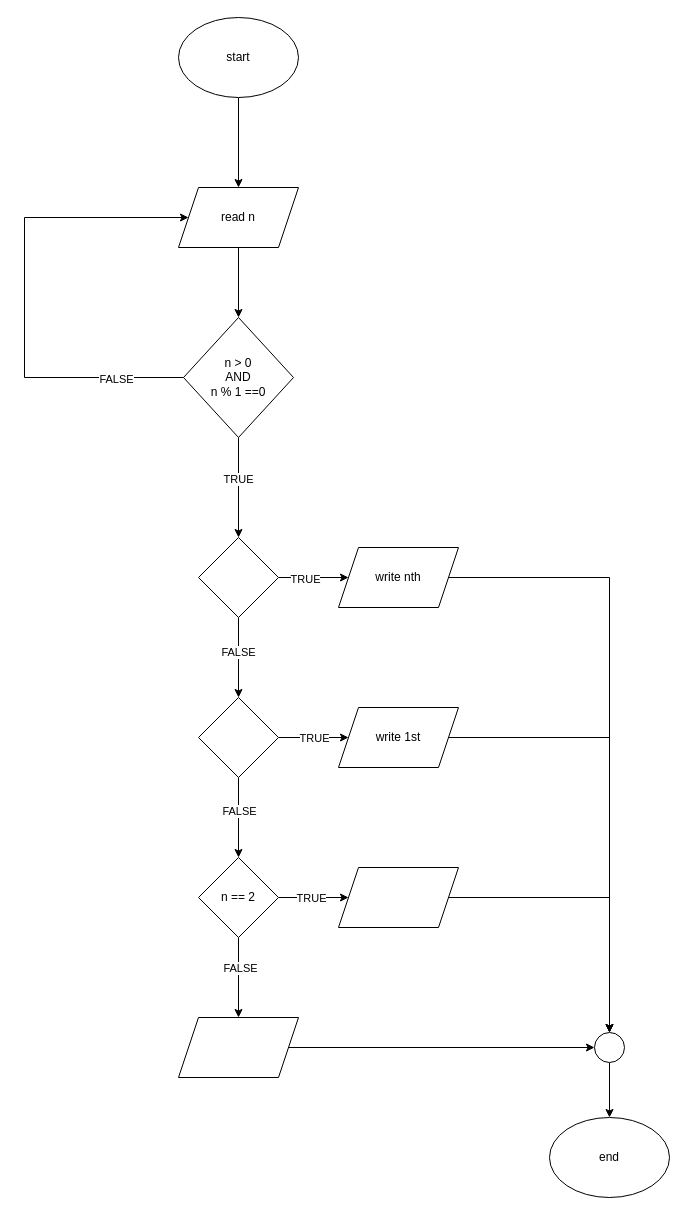
This 687x1215 diagram has some shape labels left out. The centre of each missing label's shape, as x and y in pixels:
n == 1: point 238,737
n >= 4: point 238,577
write 2nd: point 398,897
write 3rd: point 238,1047
